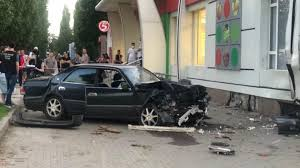car: (28, 55, 205, 137)
